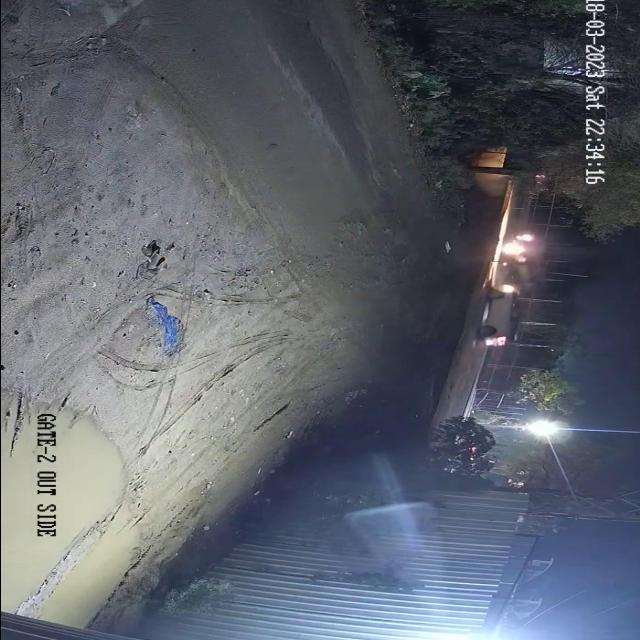accident: (473, 232, 555, 348)
